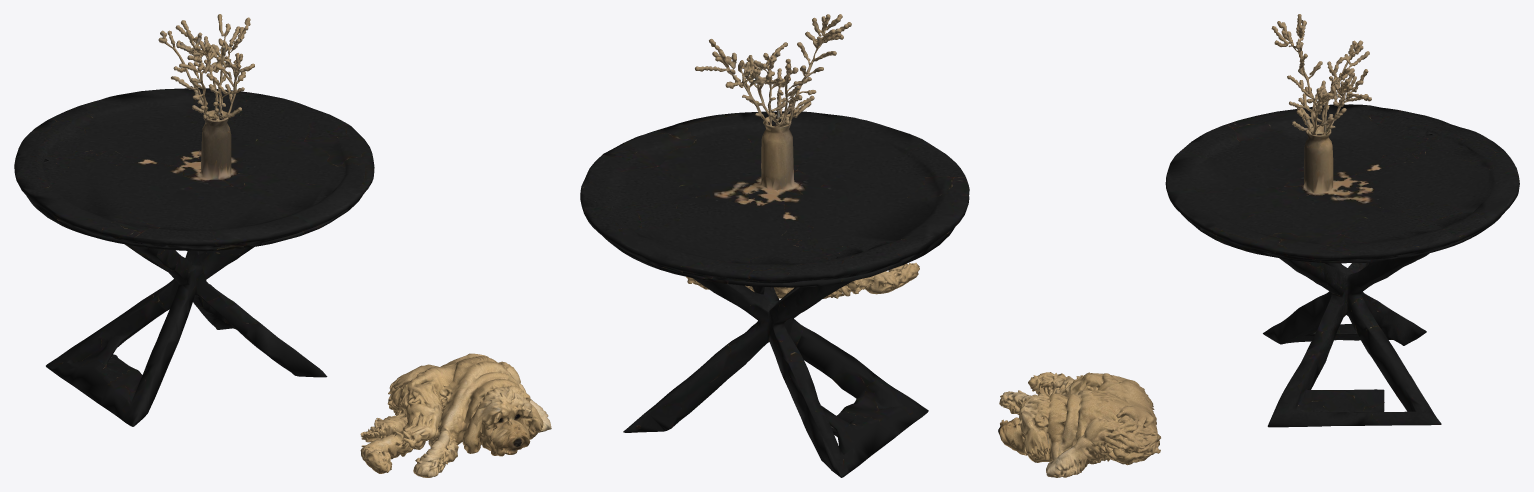
The model's file is world-meshy.glb.
3 renders of one model, left to right at view 1: azimuth 30°, elevation 25°; view 2: azimuth 150°, elevation 25°; view 3: azimuth 270°, elevation 25°, orthographic. The views are drawn at different scales.
Bounding box in the file's own units: 1.5 × 1.43 × 1.9.
Materials: 1 (1 with a texture image).
